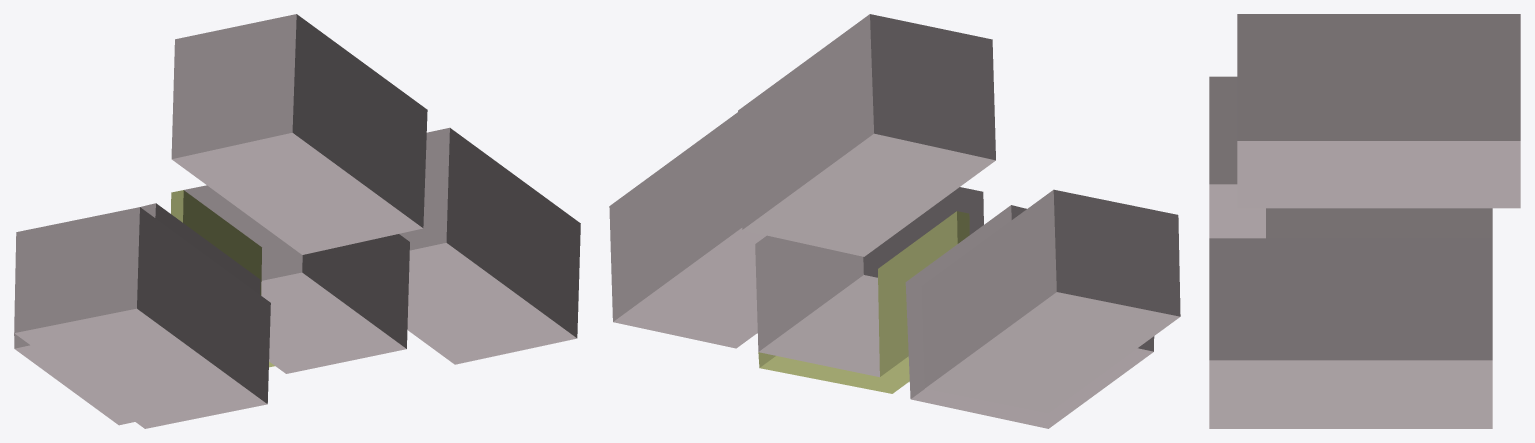
3 views of the same model, side by side, from view 1: azimuth 30°, elevation 25°; view 2: azimuth 150°, elevation 25°; view 3: azimuth 270°, elevation 25° (orthographic). The views are drawn at different scales.
Parts seen in each view (by area): view 1: 0_2_1_3_0_0_2_0_3_1; view 2: 0_2_1_3_0_0_2_0_3_1; view 3: 0_2_1_3_0_0_2_0_3_1.
Boxes of the visible parts, x1,y1,x2,y2 form: 0_2_1_3_0_0_2_0_3_1: [14, 14, 580, 428]; 0_2_1_3_0_0_2_0_3_1: [609, 14, 1180, 428]; 0_2_1_3_0_0_2_0_3_1: [1209, 14, 1520, 428].
Bounding box in the file's own units: 28.84 × 16.91 × 16.47.
